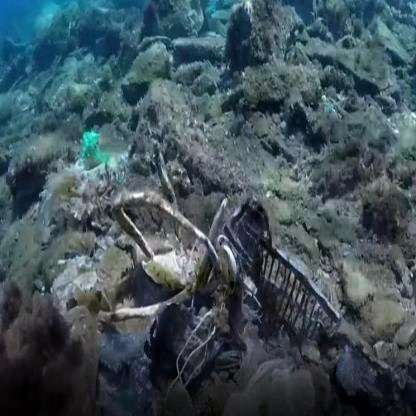misc: (227, 207, 345, 345)
